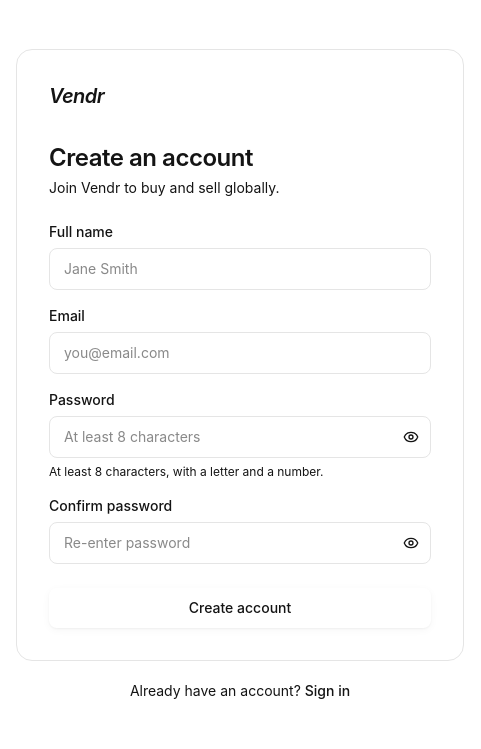
Test: Register page › shows all field errors when submitting an empty form
Click the button "Create account".
click(240, 608)  # box [49,588,431,628]
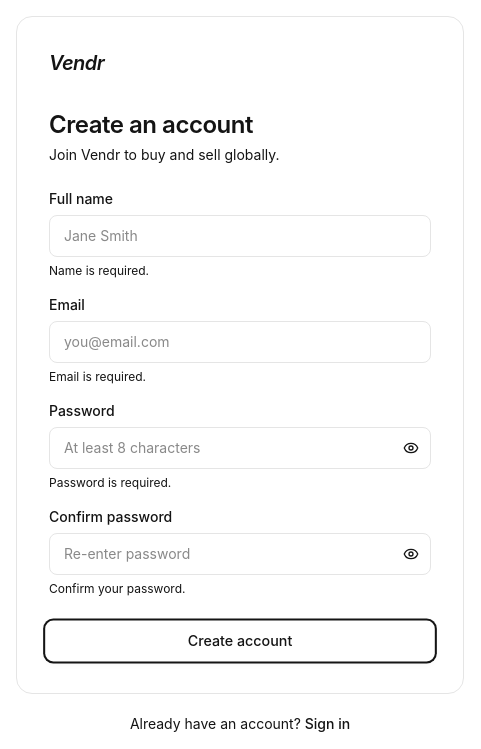
Now the text "Name is required." is shown, box [49,263,149,278]
Now the text "Email is required." is shown, box [49,369,146,384]
Now the text "Password is required." is shown, box [49,475,171,490]
